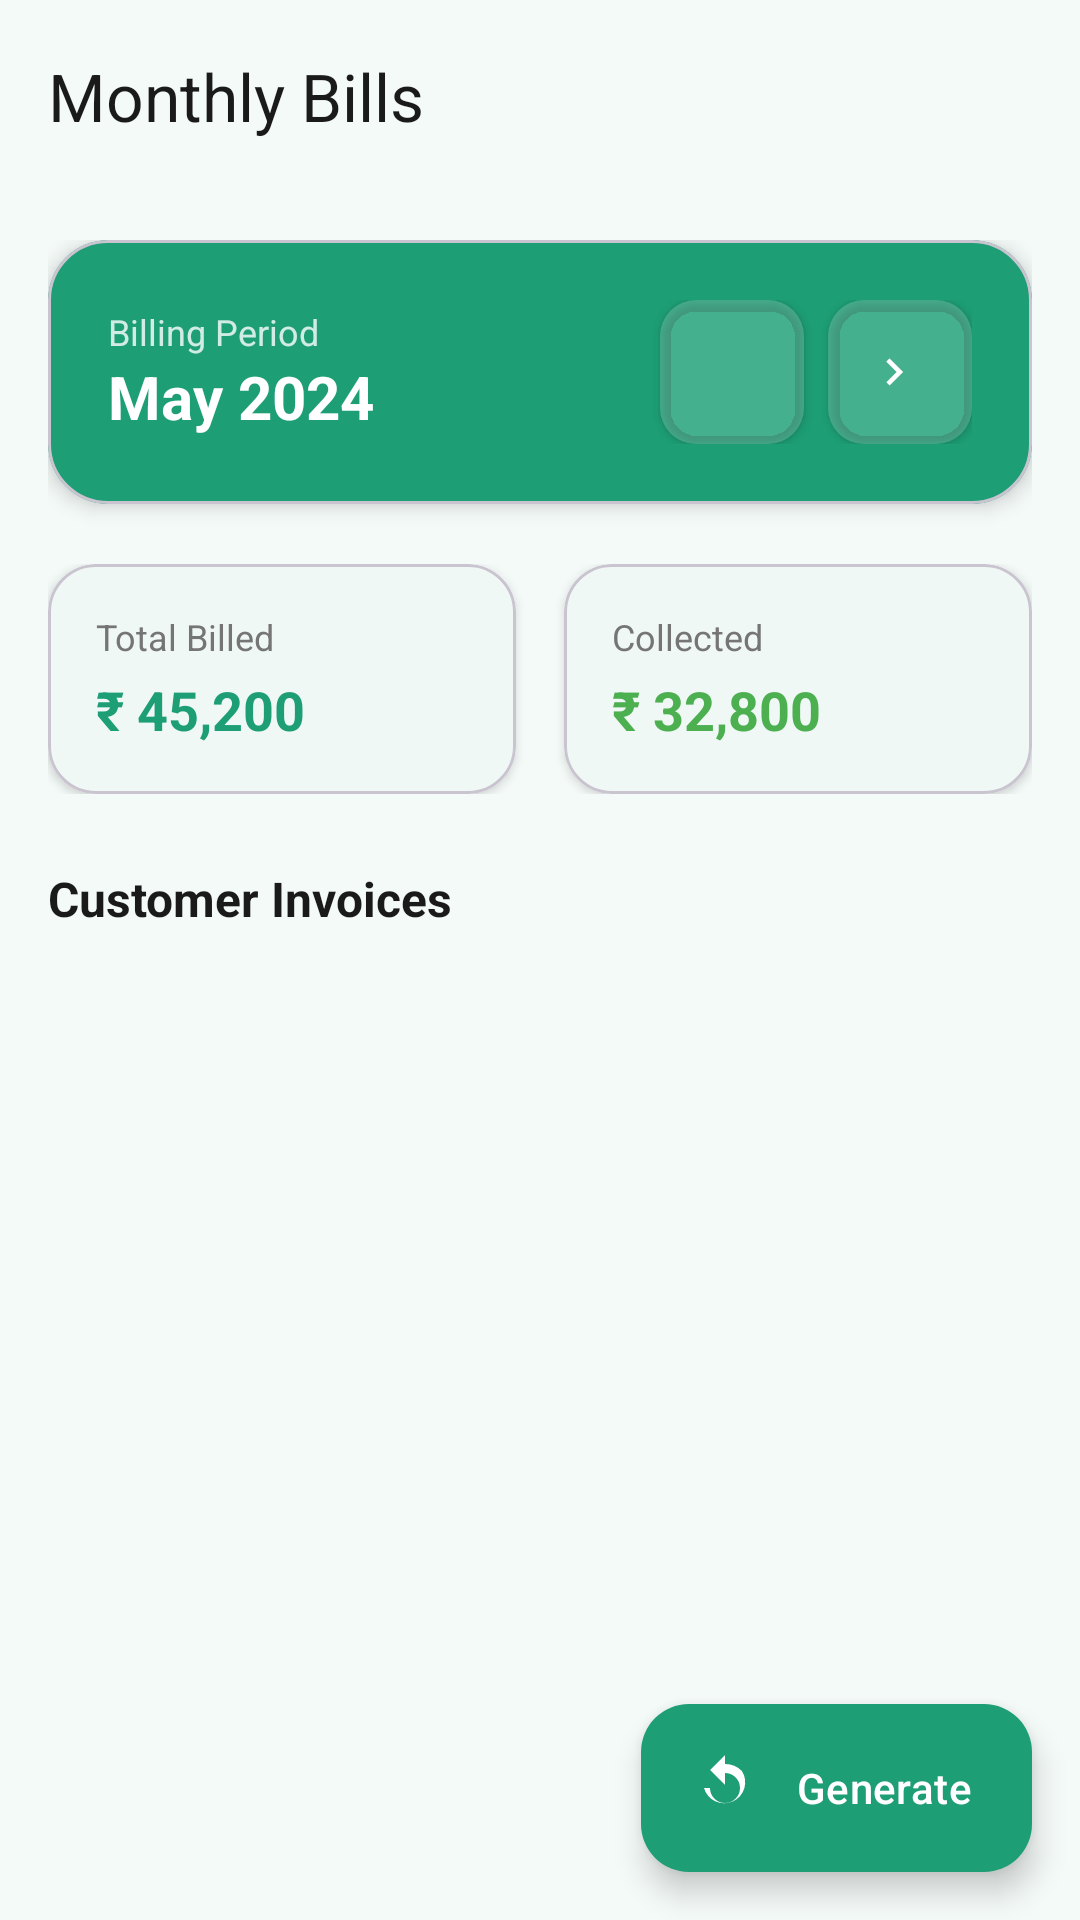

Screen size 1080w x 1920h. Icon name, then its center in pixels as (x,y):
chevron right: (900,372)
